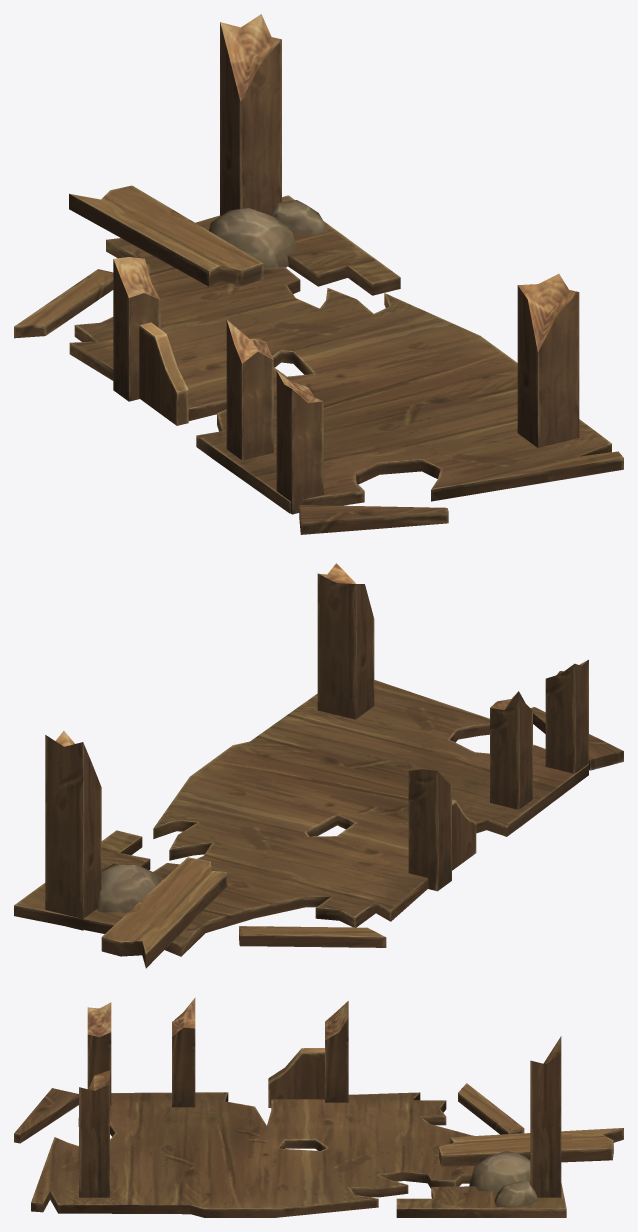
Rendered from Stage_CaoYuan_FeiXu04.FBX.
3 renders of one model, top to bottom at view 1: azimuth 30°, elevation 25°; view 2: azimuth 150°, elevation 25°; view 3: azimuth 270°, elevation 25°, orthographic. The views are drawn at different scales.
Visible parts, largest first — view 1: Stage_CaoYuan_FeiXu04; view 2: Stage_CaoYuan_FeiXu04; view 3: Stage_CaoYuan_FeiXu04.
Boxes of the visible parts, bbox=[...] form: Stage_CaoYuan_FeiXu04: bbox=[14, 14, 623, 534]; Stage_CaoYuan_FeiXu04: bbox=[14, 563, 623, 968]; Stage_CaoYuan_FeiXu04: bbox=[14, 997, 623, 1217].
Size of the model in its own units: 295 by 171 by 604.
